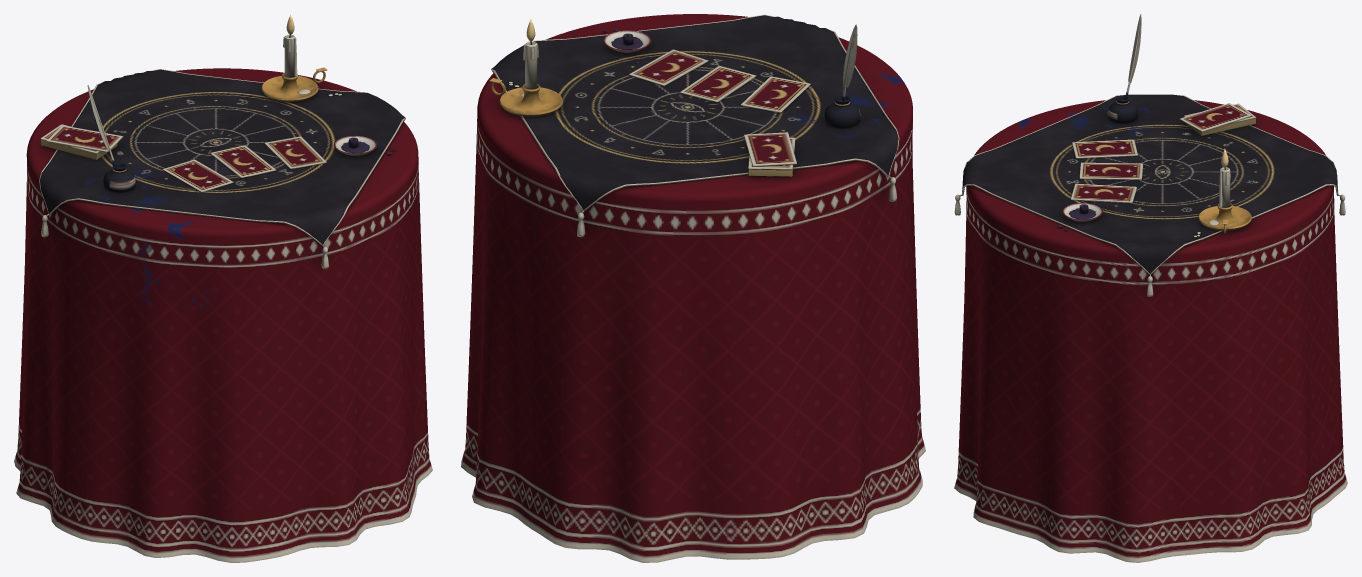
The model's file is SeerTable.fbx.
3 renders of one model, left to right at view 1: azimuth 30°, elevation 25°; view 2: azimuth 150°, elevation 25°; view 3: azimuth 270°, elevation 25°, orthographic. The views are drawn at different scales.
Parts seen in each view (by area): view 1: SeerTable_Main; view 2: SeerTable_Main; view 3: SeerTable_Main.
Part boxes in pixels (left/top/right/bottom): SeerTable_Main: left=14, top=34, right=432, bottom=562; SeerTable_Main: left=461, top=14, right=925, bottom=562; SeerTable_Main: left=954, top=14, right=1347, bottom=562.
Size of the model in its own units: 317 by 353 by 315.
